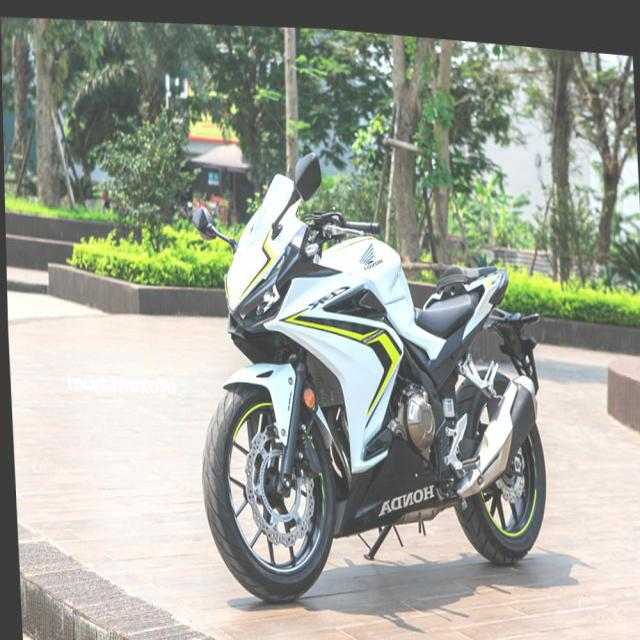CBR500R: (180, 123, 552, 626)
